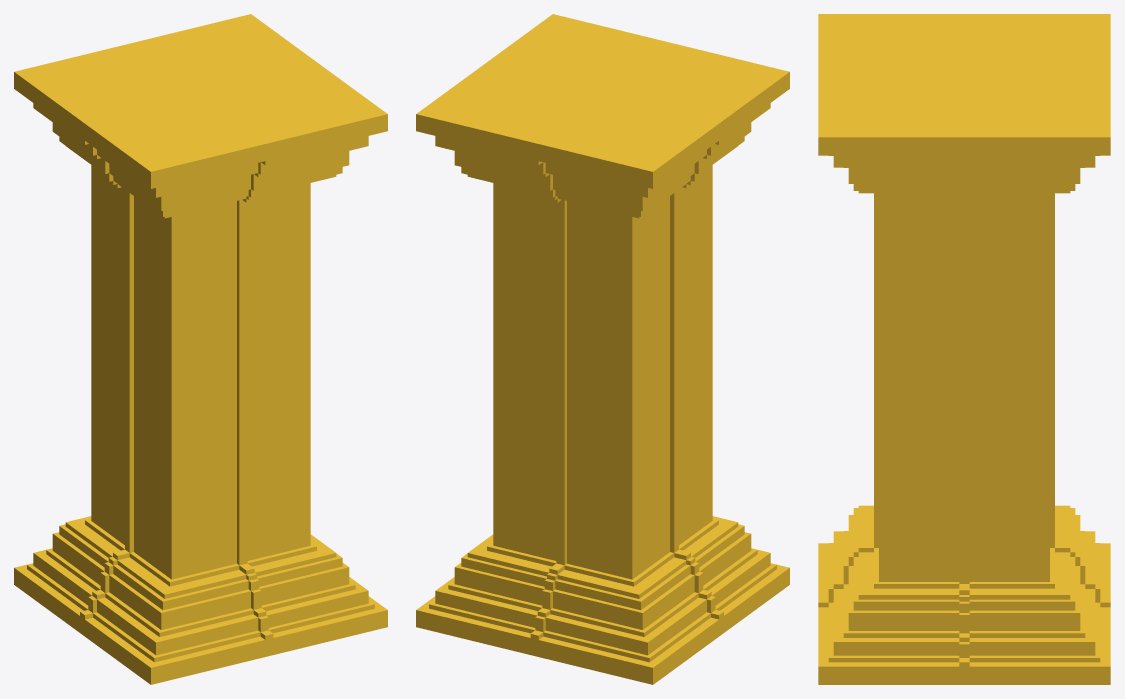
File: column.fbx
3 renders of one model, left to right at view 1: azimuth 30°, elevation 25°; view 2: azimuth 150°, elevation 25°; view 3: azimuth 270°, elevation 25°, orthographic. The views are drawn at different scales.
Parts seen in each view (by area): view 1: unnamed_317; view 2: unnamed_317; view 3: unnamed_317.
Boxes of the visible parts, left/top/right/bottom form: unnamed_317: left=14, top=14, right=387, bottom=684; unnamed_317: left=416, top=14, right=789, bottom=684; unnamed_317: left=818, top=14, right=1110, bottom=684.
Size of the model in its own units: 580 by 1200 by 580.
Materials: 1 (1 with a texture image).
